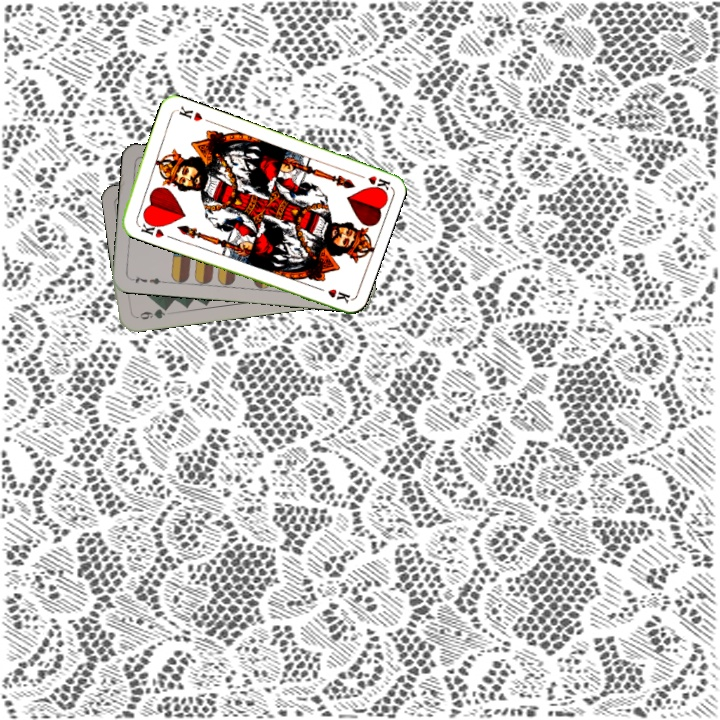E7: (126, 272, 167, 287)
G9: (132, 303, 171, 322)
HK: (352, 169, 392, 195), (137, 216, 166, 240)
